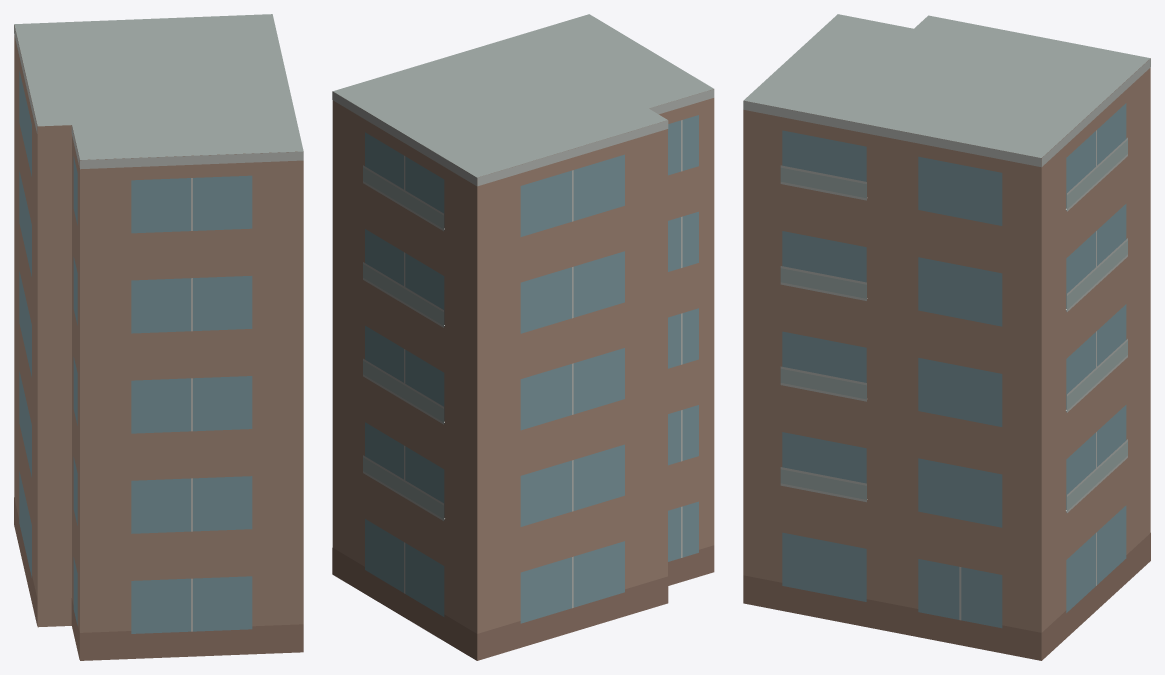
Rendered from survey-upis-32815830.glb.
3 renders of one model, left to right at view 1: azimuth 30°, elevation 25°; view 2: azimuth 150°, elevation 25°; view 3: azimuth 270°, elevation 25°, orthographic. The views are drawn at different scales.
Visible parts, largest first — view 1: survey-upis-32815830.tmp; view 2: survey-upis-32815830.tmp; view 3: survey-upis-32815830.tmp.
Part boxes in pixels (x1=…): survey-upis-32815830.tmp: x1=14, y1=14, x2=303, y2=660; survey-upis-32815830.tmp: x1=332, y1=14, x2=714, y2=660; survey-upis-32815830.tmp: x1=743, y1=14, x2=1150, y2=660.
Bounding box in the file's own units: 8.25 × 13.4 × 9.85.
